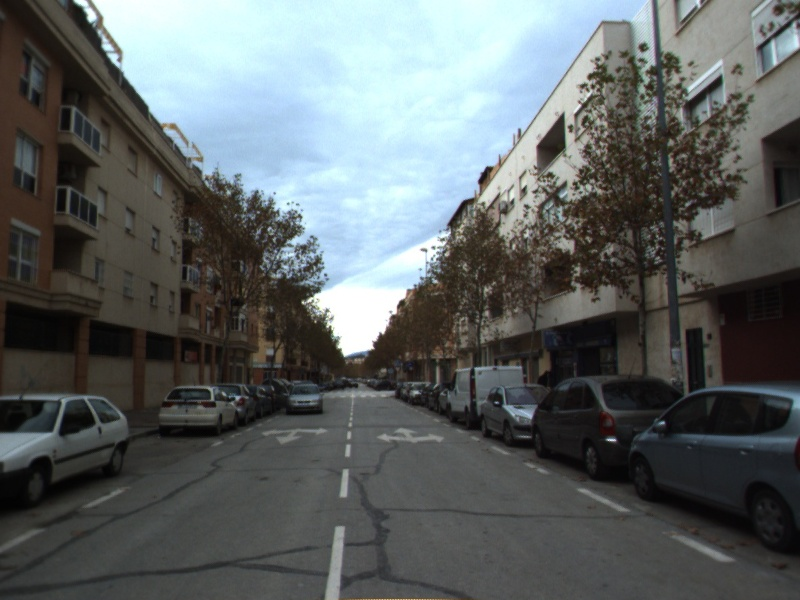STRAIGHT_LEFT_RIGHT: (375, 426, 446, 445)
